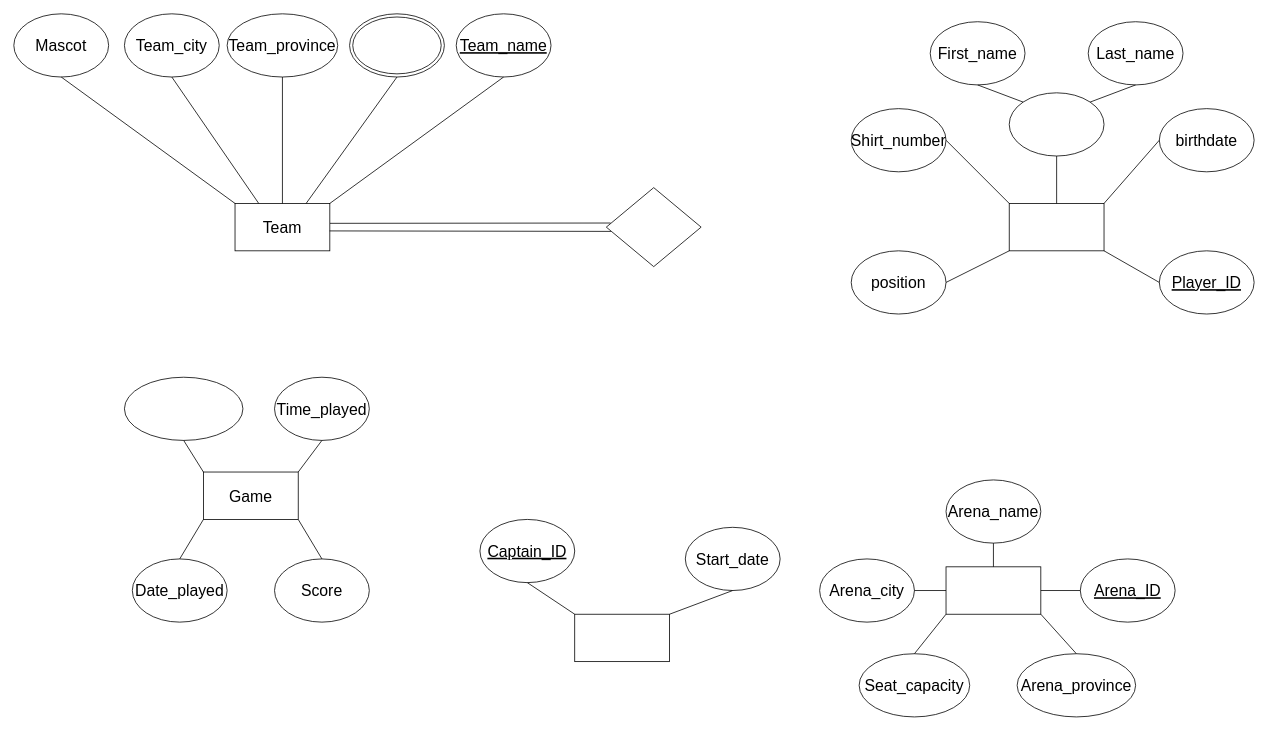
This 1268x731 diagram has some shape labels left out. Each missing label, with the box of its shape:
Arena: (945, 566, 1041, 614)
Captain: (574, 613, 670, 662)
Colours: (349, 13, 444, 77)
Consists of: (606, 187, 701, 267)
Game_number: (124, 376, 243, 440)
Player: (1008, 203, 1104, 251)
Player_name: (1008, 92, 1104, 156)
